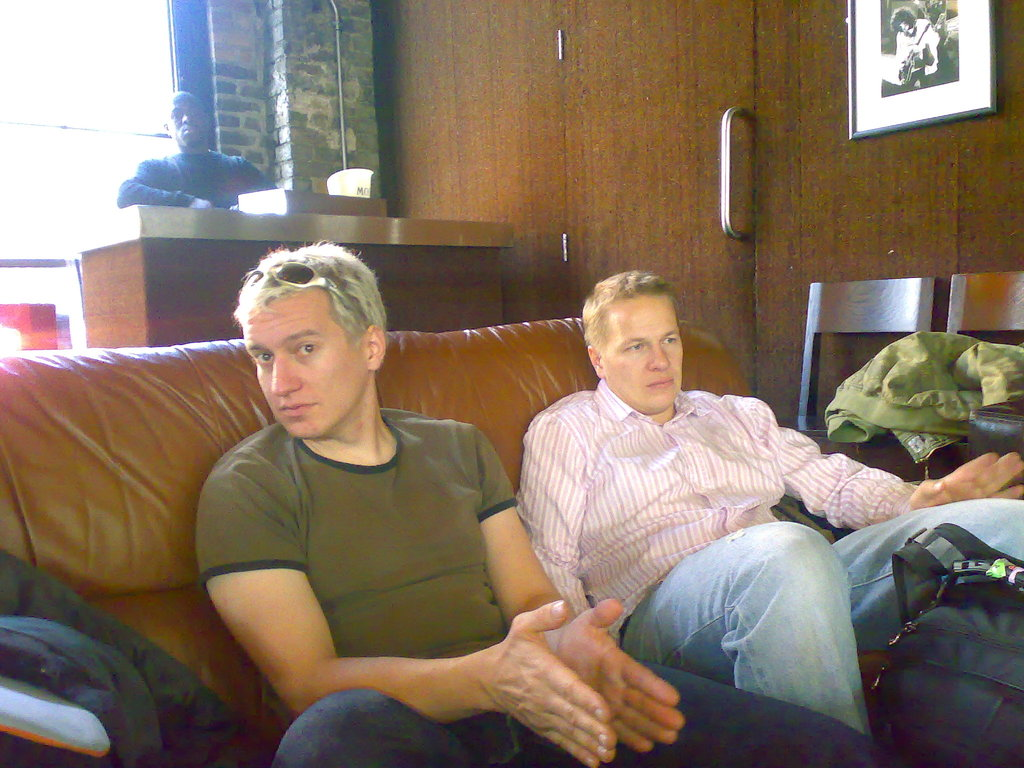Couch: (13, 289, 877, 768)
